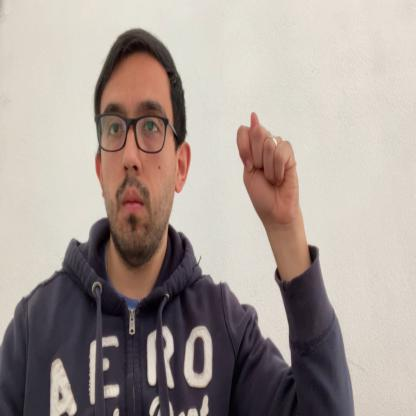T: (237, 112, 299, 220)
